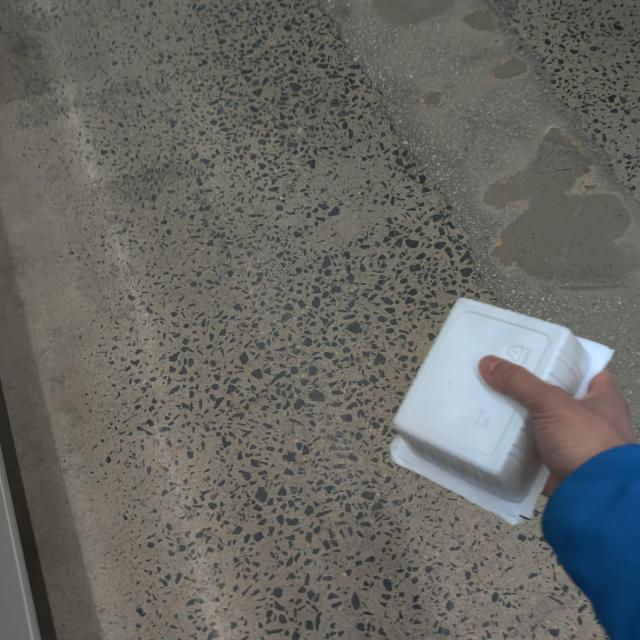Tofu: (381, 282, 621, 530)
